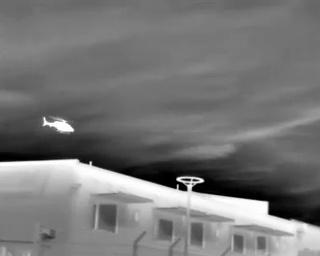HELICOPTER: (38, 110, 79, 140)
